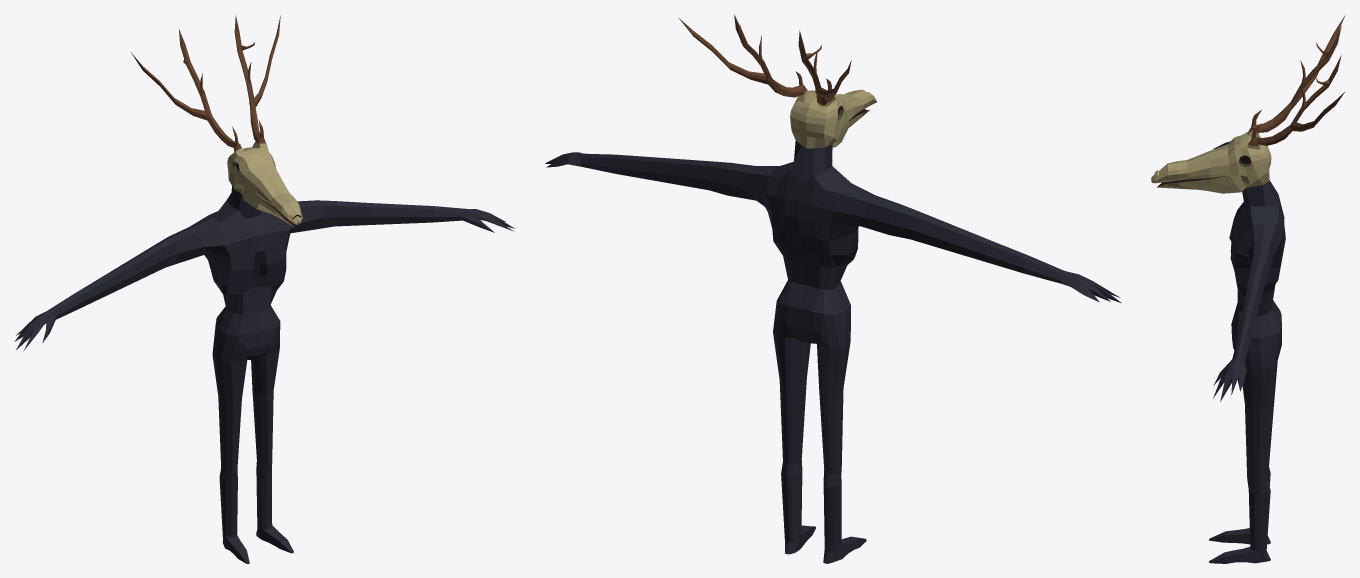
The model's file is OldWendigo.fbx.
3 views of the same model, side by side, from view 1: azimuth 30°, elevation 25°; view 2: azimuth 150°, elevation 25°; view 3: azimuth 270°, elevation 25° (orthographic). The views are drawn at different scales.
Visible parts, largest first — view 1: Plane.000; view 2: Plane.000; view 3: Plane.000.
Boxes of the visible parts, box(x1,y1,x2,y2) form: Plane.000: box(14, 15, 515, 563); Plane.000: box(545, 14, 1121, 563); Plane.000: box(1151, 15, 1345, 563).
Size of the model in its own units: 602 by 564 by 194.
